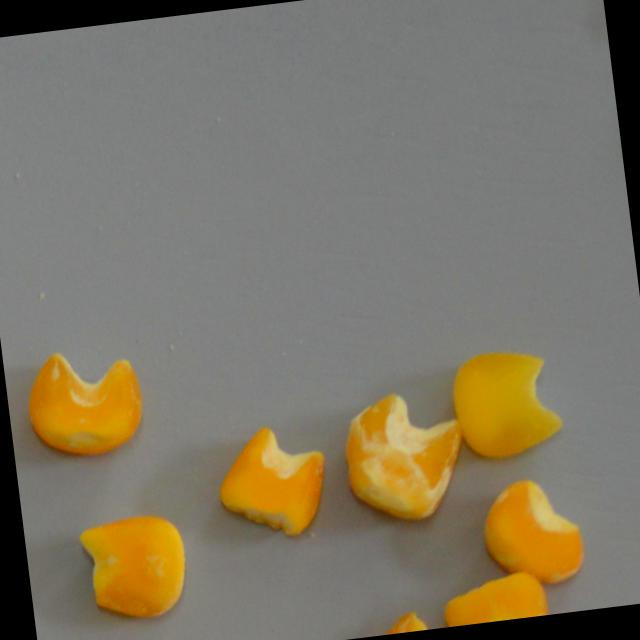no_canjicado: (210, 419, 333, 544), (448, 345, 565, 464), (438, 567, 547, 627)
pelicula: (337, 384, 470, 528), (18, 340, 146, 464), (74, 509, 194, 625), (476, 473, 587, 591), (357, 606, 458, 638)
